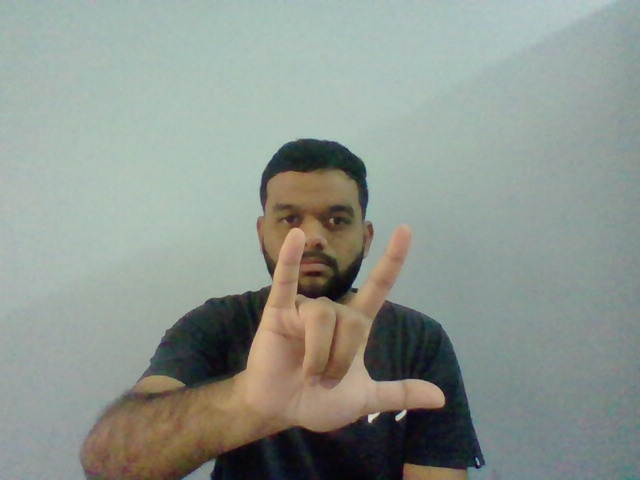I love you: (256, 223, 445, 429)
